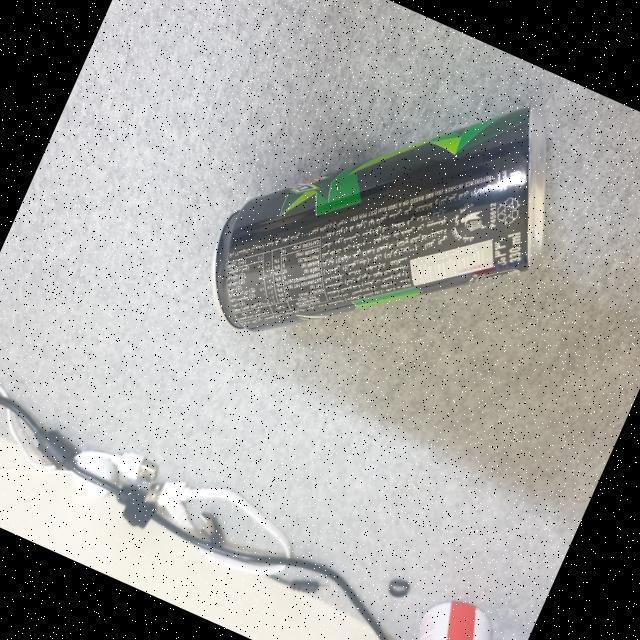can: (178, 1, 602, 433)
